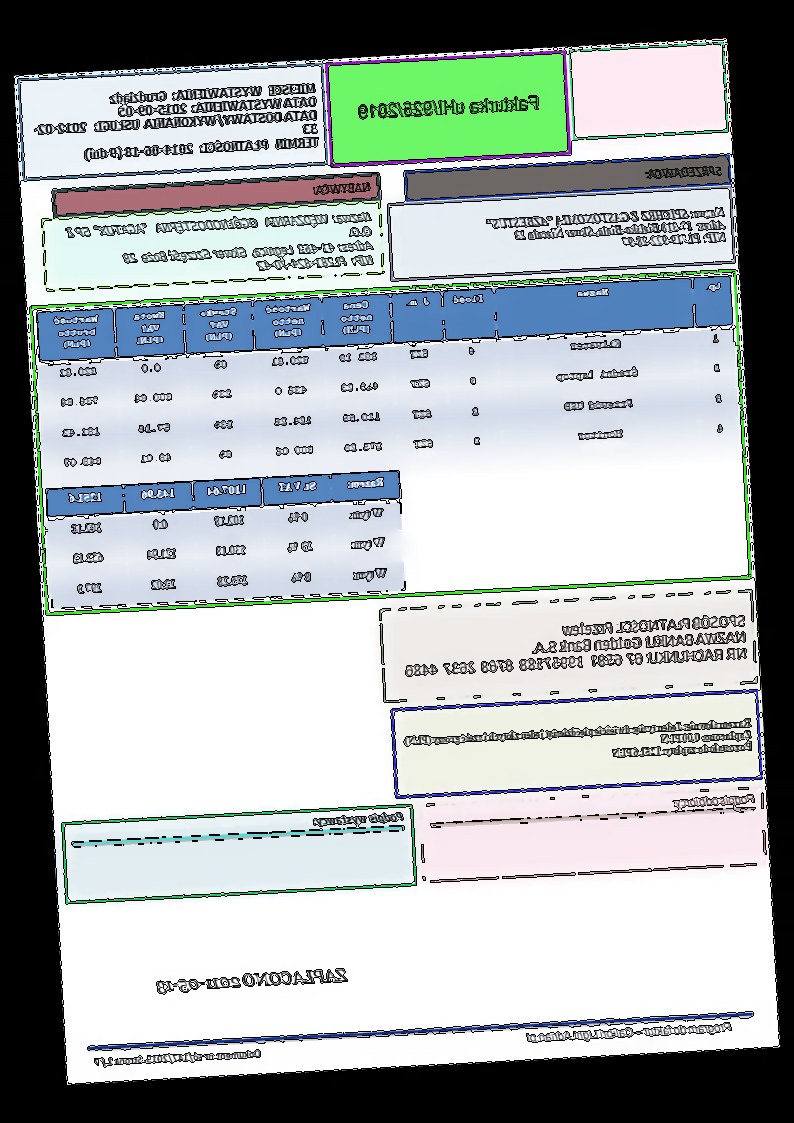Table: (36, 273, 742, 486), (44, 469, 407, 612)
TextBox: (28, 79, 321, 166), (401, 611, 750, 681), (62, 208, 377, 285), (402, 715, 755, 771), (483, 203, 728, 257), (155, 964, 350, 998), (524, 1018, 734, 1047), (355, 92, 542, 123), (93, 1046, 263, 1070), (311, 808, 406, 831), (671, 790, 758, 812), (642, 161, 726, 182), (311, 178, 373, 199)
